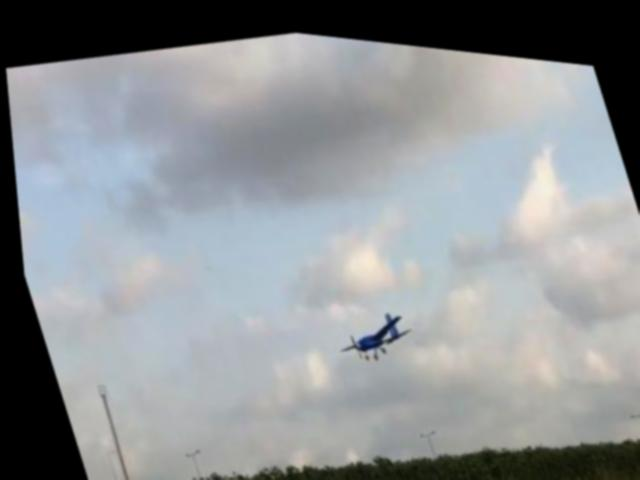uav: (319, 284, 423, 368)
